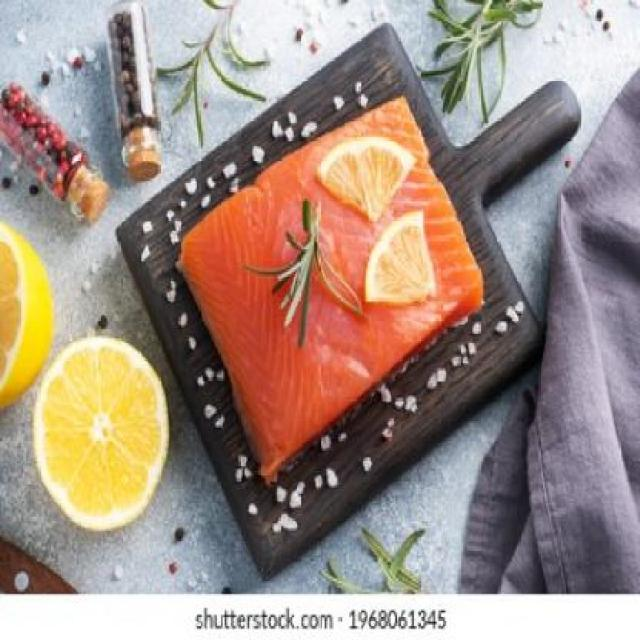salmon: (151, 112, 488, 458)
